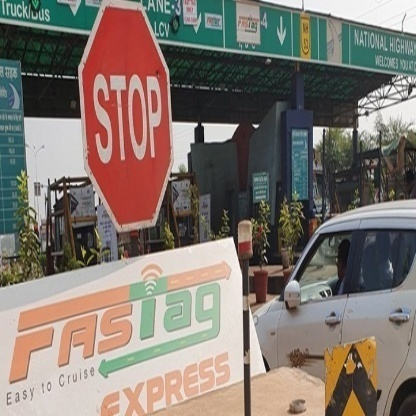stop: (77, 1, 170, 230)
